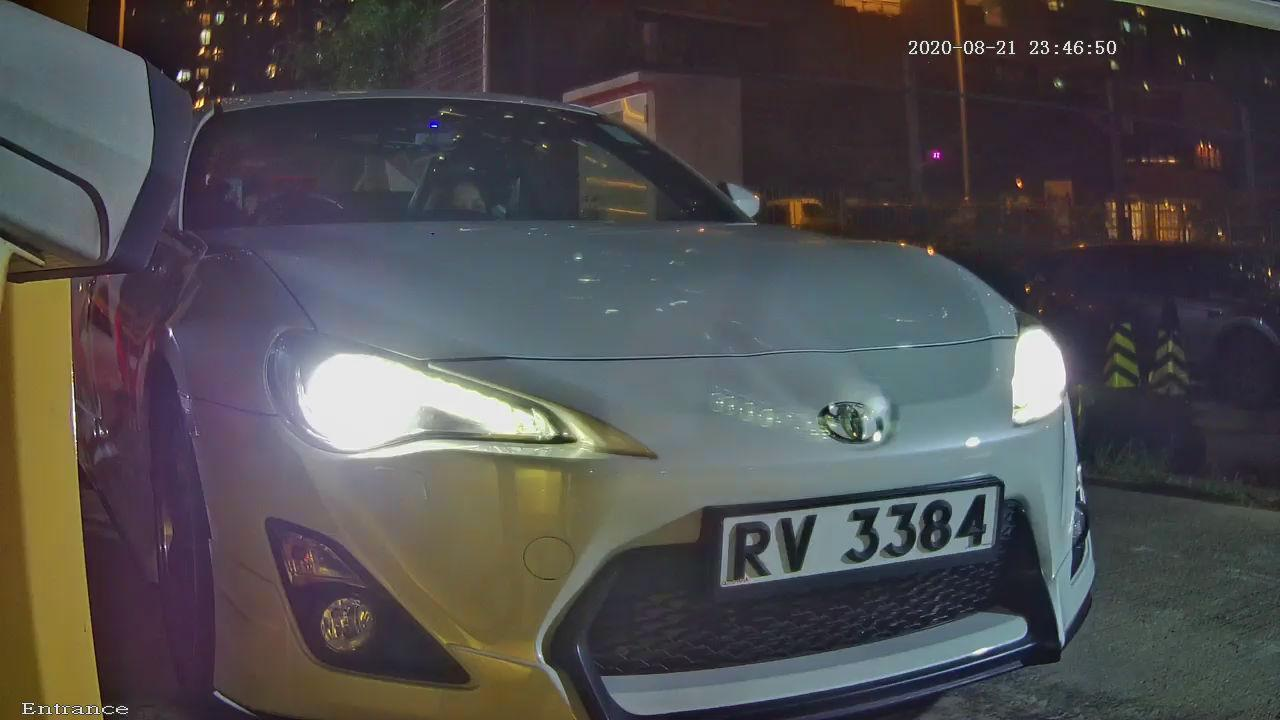Car: (23, 1, 1218, 720)
License Plate: (688, 459, 1033, 597)
